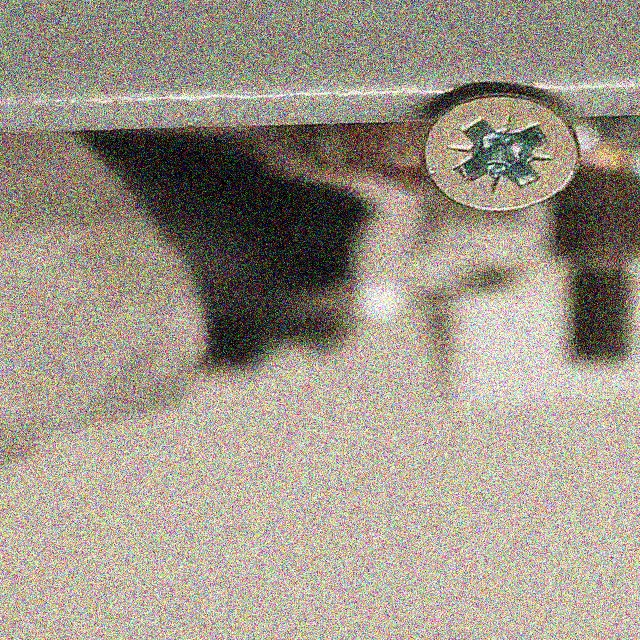pozidriv: (422, 90, 578, 213)
